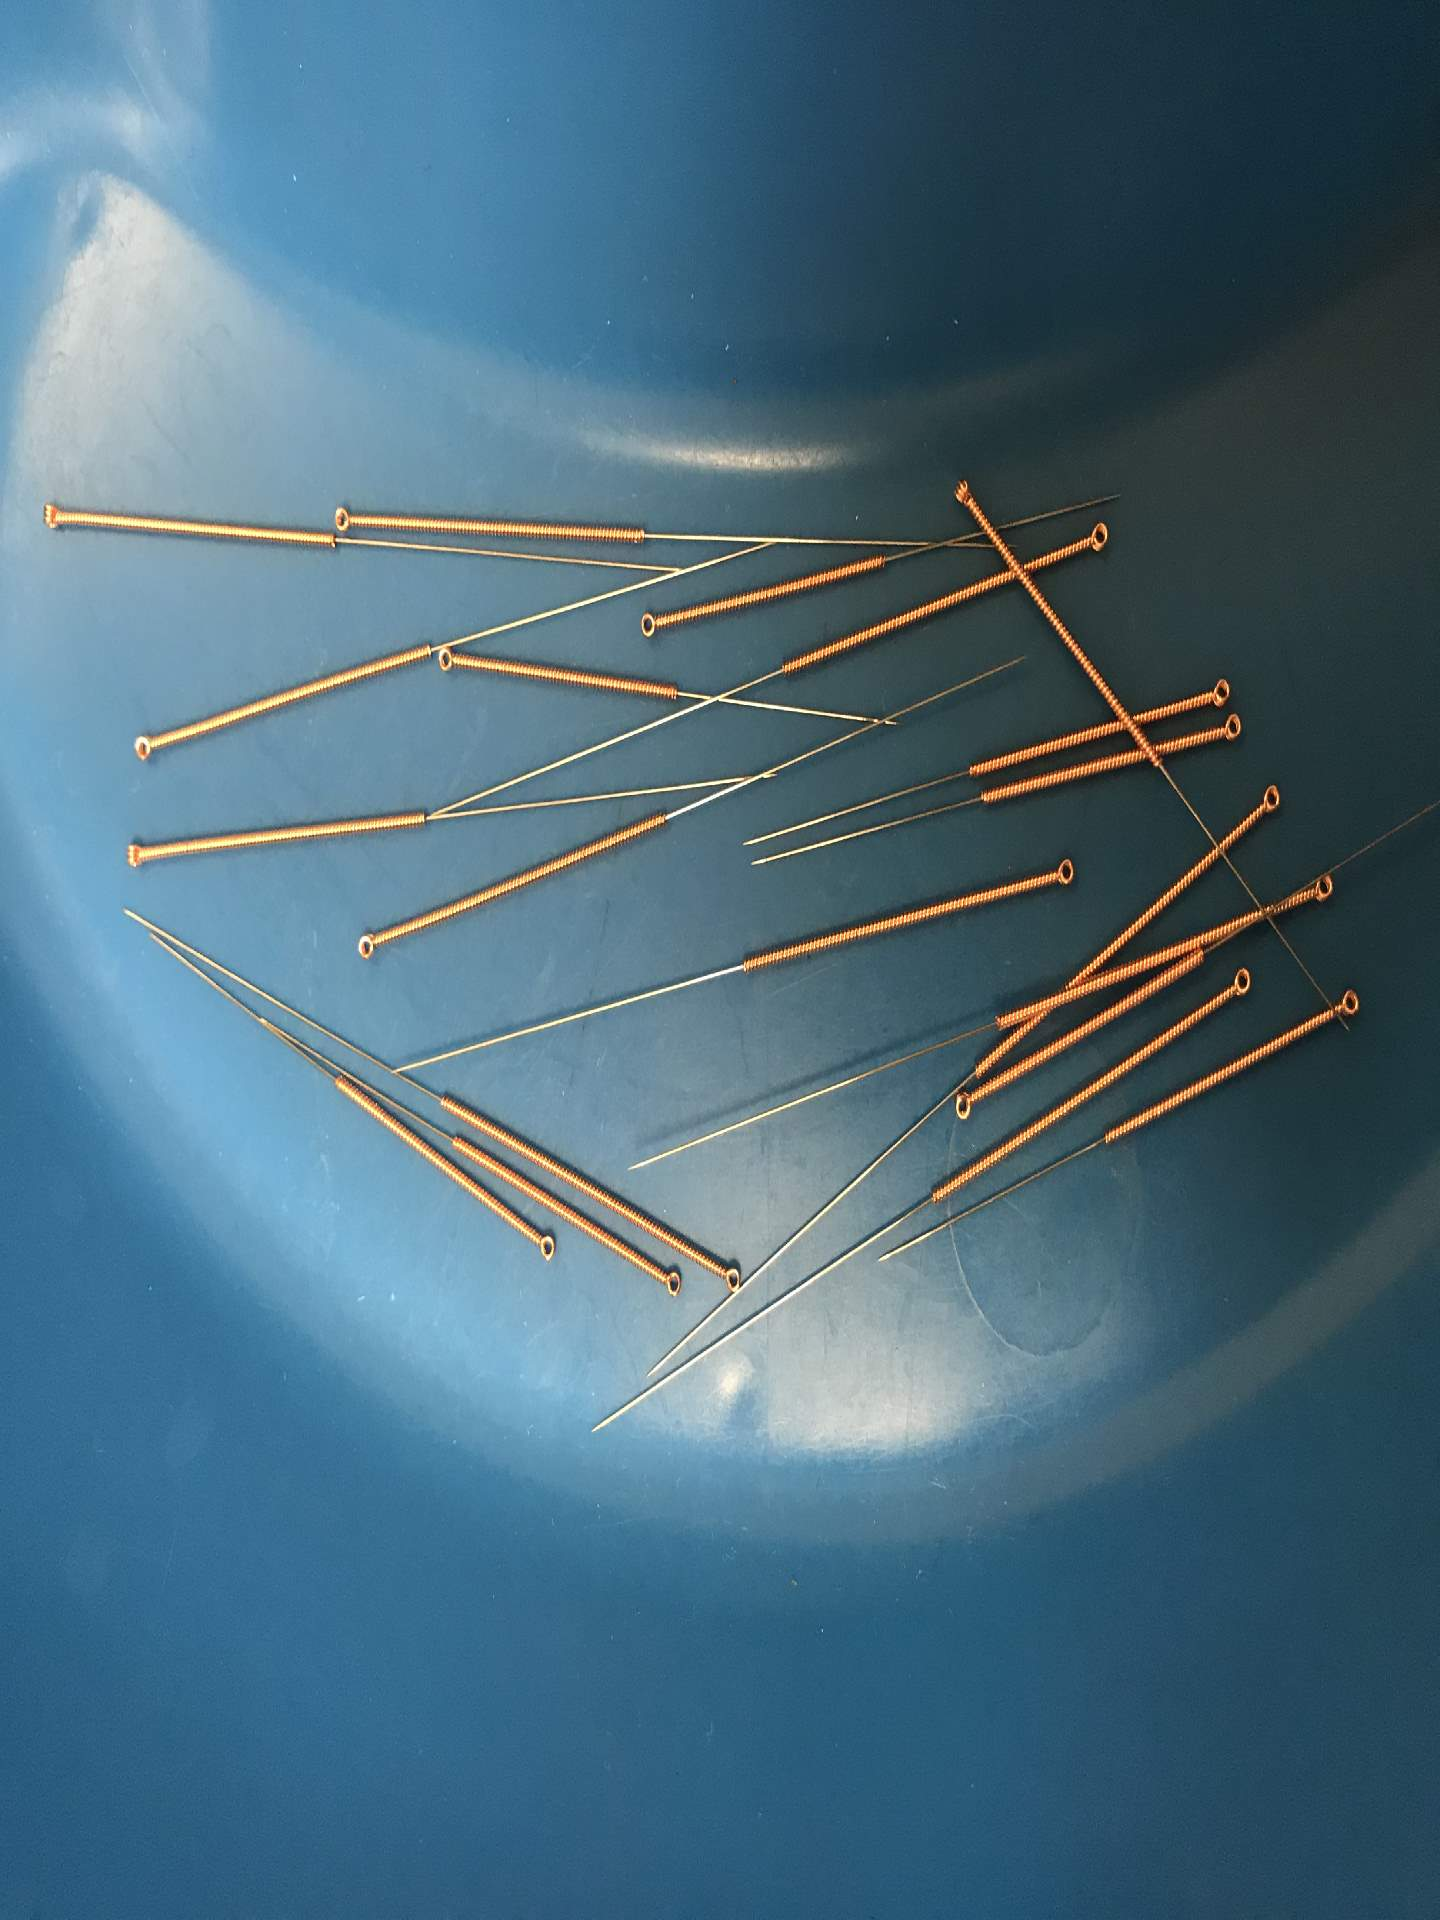needle: (1075, 514, 1118, 562), (945, 1079, 983, 1126), (1328, 983, 1367, 1023), (523, 1225, 563, 1265), (33, 496, 70, 540), (126, 726, 163, 766), (948, 472, 982, 517), (1212, 709, 1249, 748), (1225, 960, 1258, 1004), (632, 606, 669, 646), (1304, 869, 1340, 909), (647, 1262, 687, 1299), (711, 1256, 747, 1296), (1047, 853, 1082, 893), (1252, 779, 1286, 821), (116, 836, 151, 875), (349, 927, 383, 968), (1203, 671, 1234, 712), (327, 499, 360, 537), (434, 643, 461, 679)
